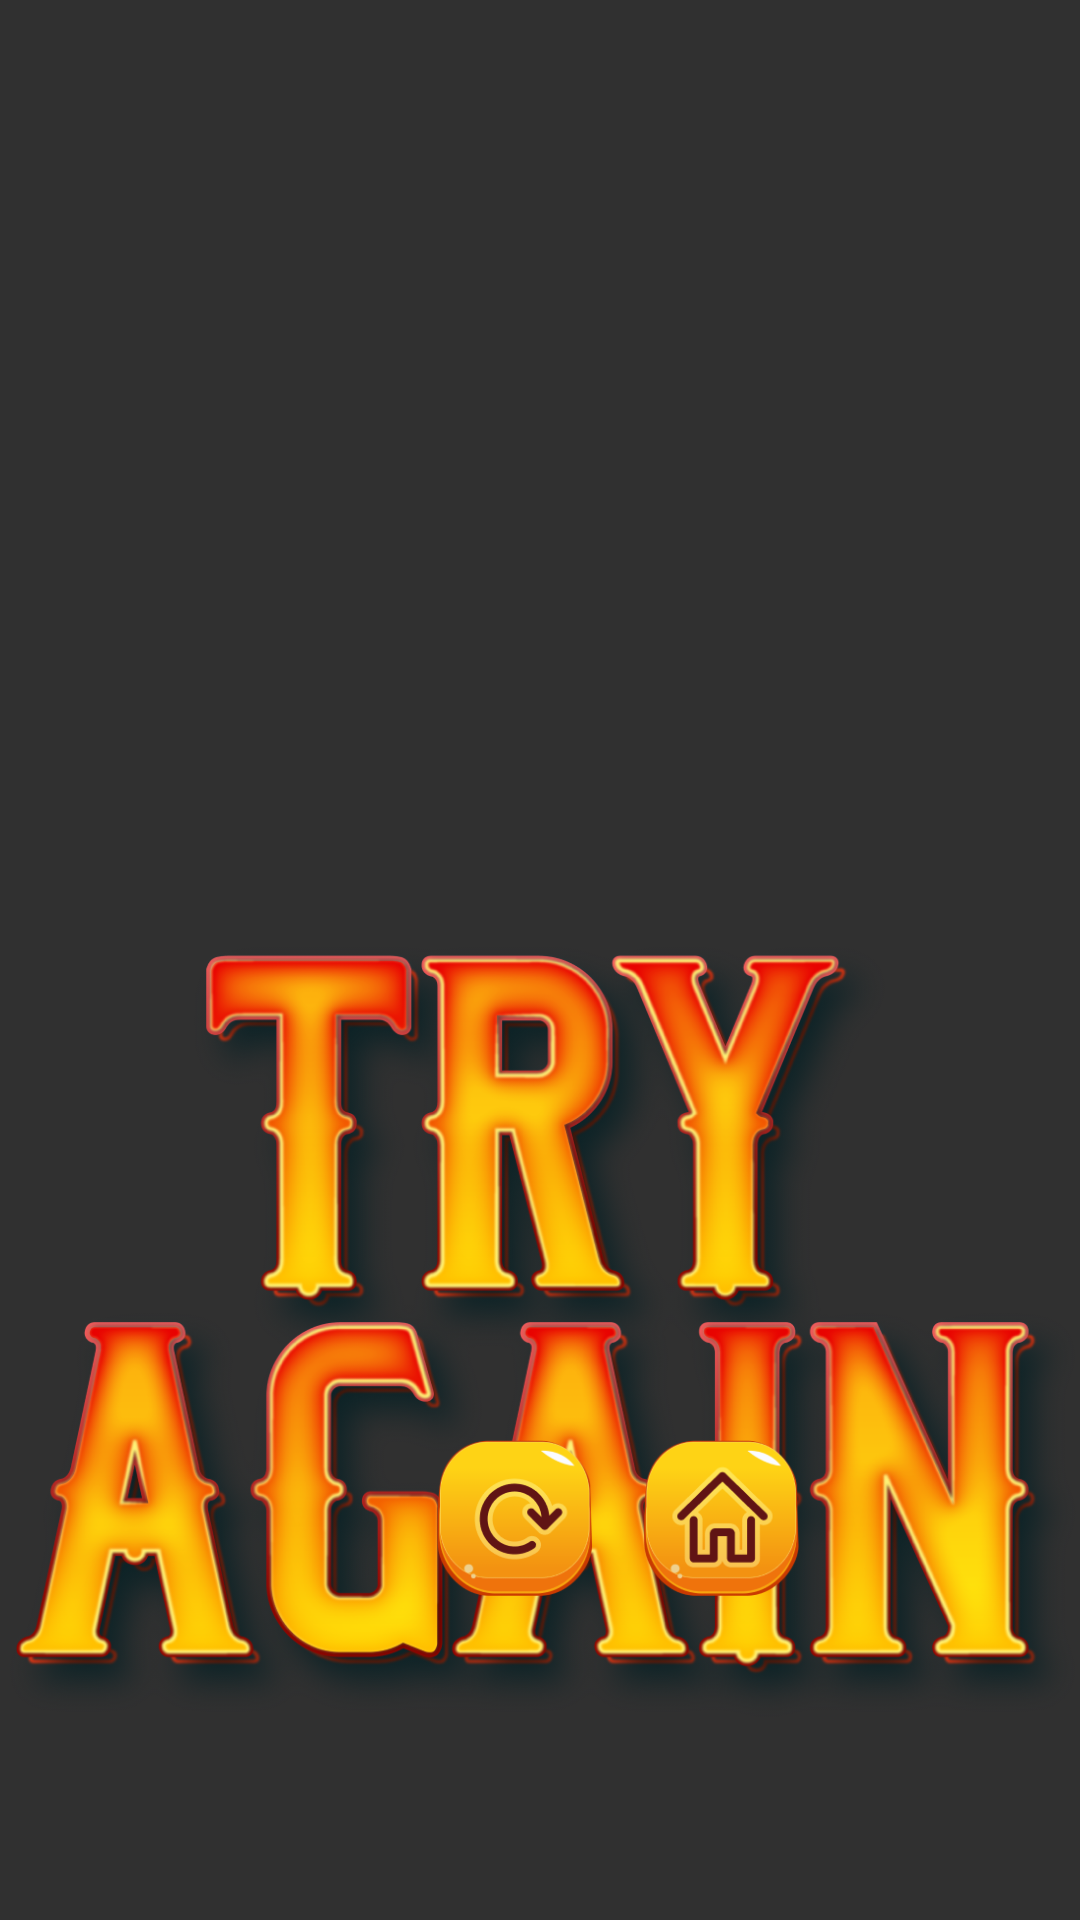

Icons on this 1080px x 1920px Android screen, each with the point to tap as (x,y):
home: (721,1518)
repeat: (514,1518)
